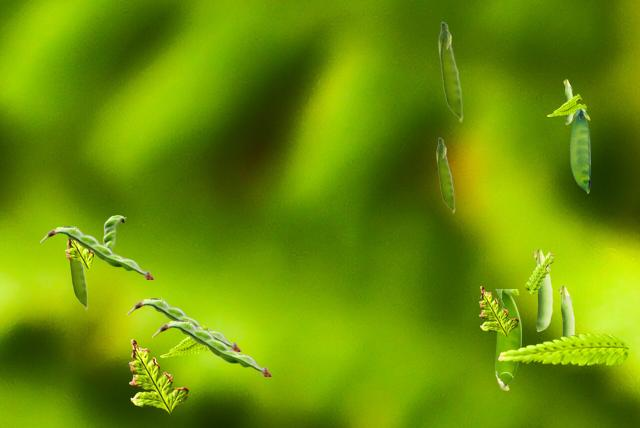pea: (152, 320, 271, 375), (127, 298, 240, 350), (40, 226, 153, 278), (495, 289, 520, 389), (438, 21, 462, 121), (570, 109, 589, 192), (532, 247, 551, 330), (67, 238, 87, 309), (436, 137, 454, 212), (102, 215, 125, 249), (558, 284, 573, 336), (563, 78, 572, 123)
